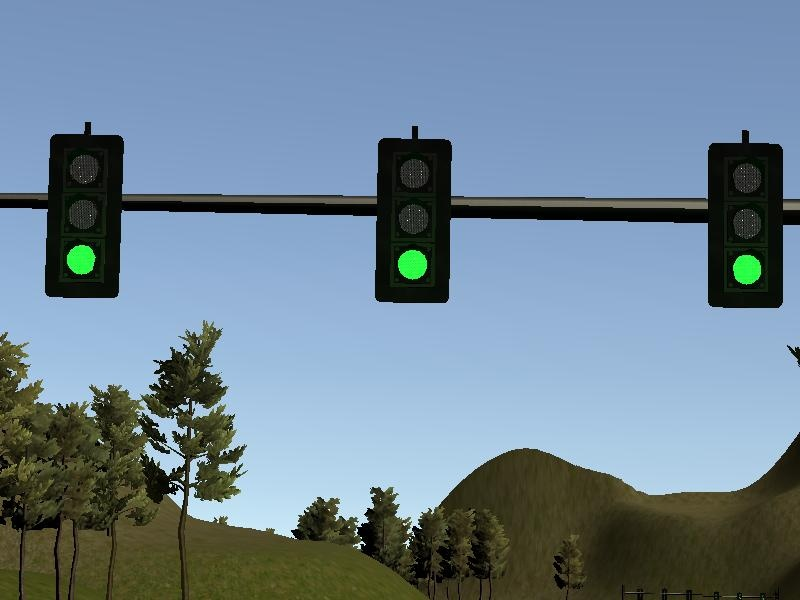Green: (706, 143, 784, 307), (45, 134, 118, 296), (377, 138, 450, 300)
